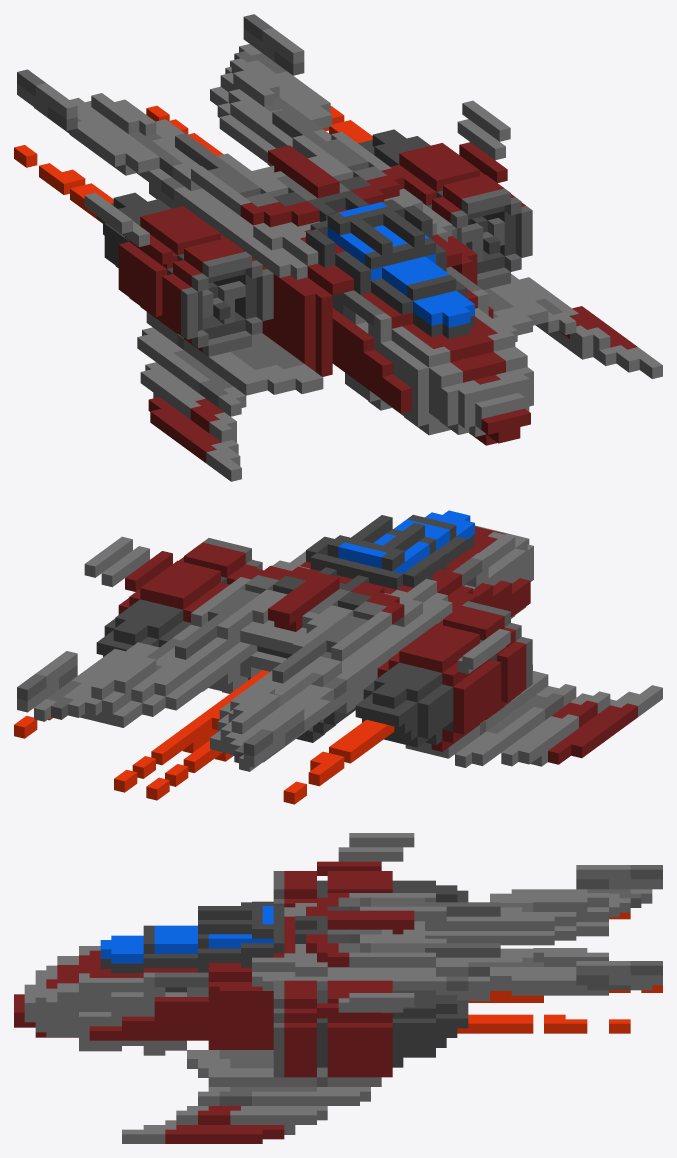
File: NoeliaShip.FBX
3 views of the same model, one above another, from view 1: azimuth 30°, elevation 25°; view 2: azimuth 150°, elevation 25°; view 3: azimuth 270°, elevation 25° (orthographic). The views are drawn at different scales.
Parts seen in each view (by area): view 1: Transtellar; view 2: Transtellar; view 3: Transtellar.
Part boxes in pixels (left/top/right/bottom): Transtellar: left=14, top=14, right=662, bottom=481; Transtellar: left=14, top=510, right=662, bottom=804; Transtellar: left=14, top=833, right=662, bottom=1143.
Size of the model in its own units: 4 by 1.4 by 6.
Materials: 1 (1 with a texture image).
